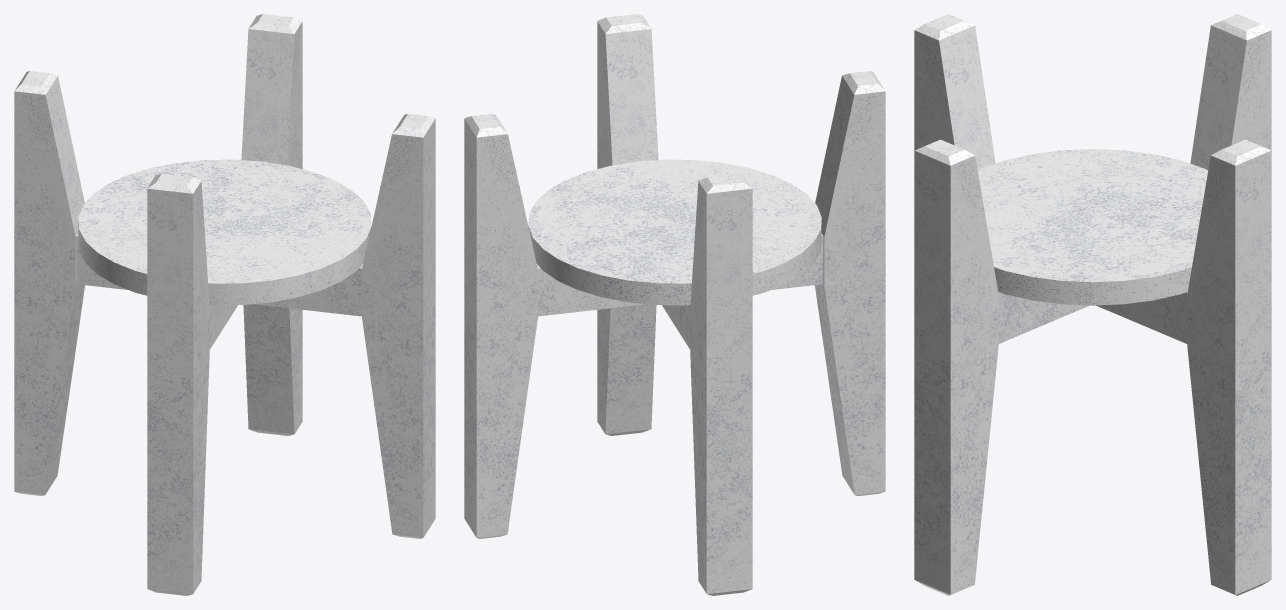
The model's file is PotStand_B1.fbx.
3 renders of one model, left to right at view 1: azimuth 30°, elevation 25°; view 2: azimuth 150°, elevation 25°; view 3: azimuth 270°, elevation 25°, orthographic. The views are drawn at different scales.
Visible parts, largest first — view 1: PotStand_B1, PotStand_B2; view 2: PotStand_B1, PotStand_B2; view 3: PotStand_B1, PotStand_B2.
Part boxes in pixels (x1,y1,x2,y2): PotStand_B1: (14,14,435,595); PotStand_B2: (78,159,371,305); PotStand_B1: (464,14,885,595); PotStand_B2: (528,159,821,305); PotStand_B1: (914,14,1271,595); PotStand_B2: (977,149,1208,305).
Size of the model in its own units: 0.1385 by 0.188 by 0.1385.
